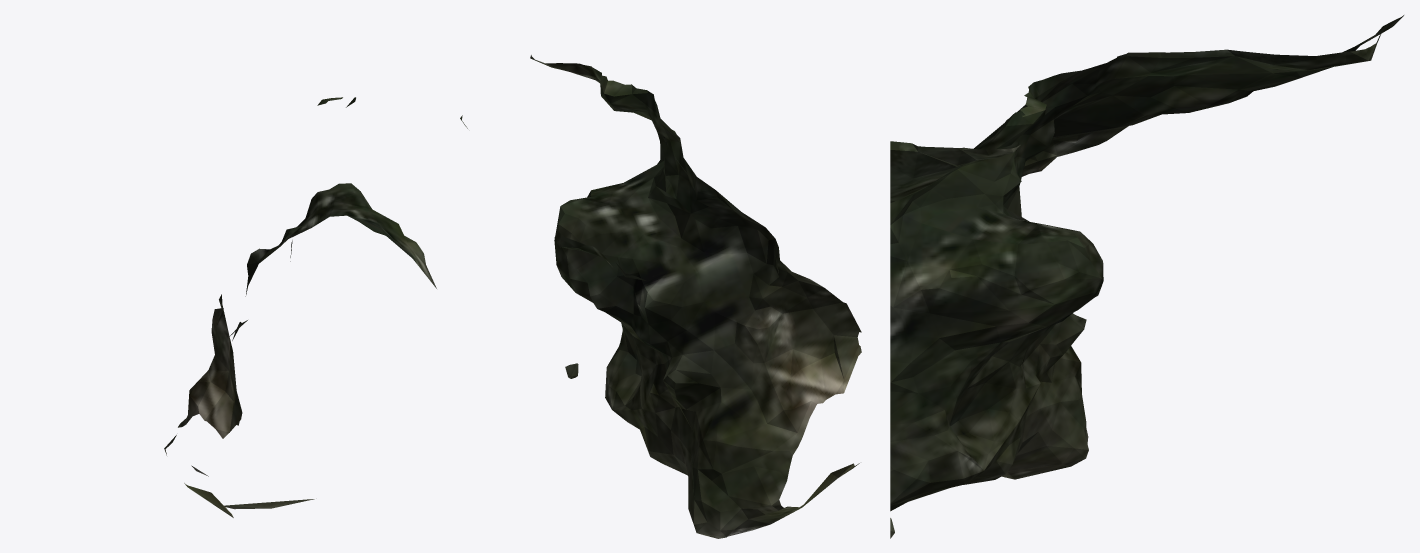
3 renders of one model, left to right at view 1: azimuth 30°, elevation 25°; view 2: azimuth 150°, elevation 25°; view 3: azimuth 270°, elevation 25°, orthographic. The views are drawn at different scales.
Bounding box in the file's own units: 1.52 × 2.08 × 2.24.
Materials: 2 (2 with a texture image).
